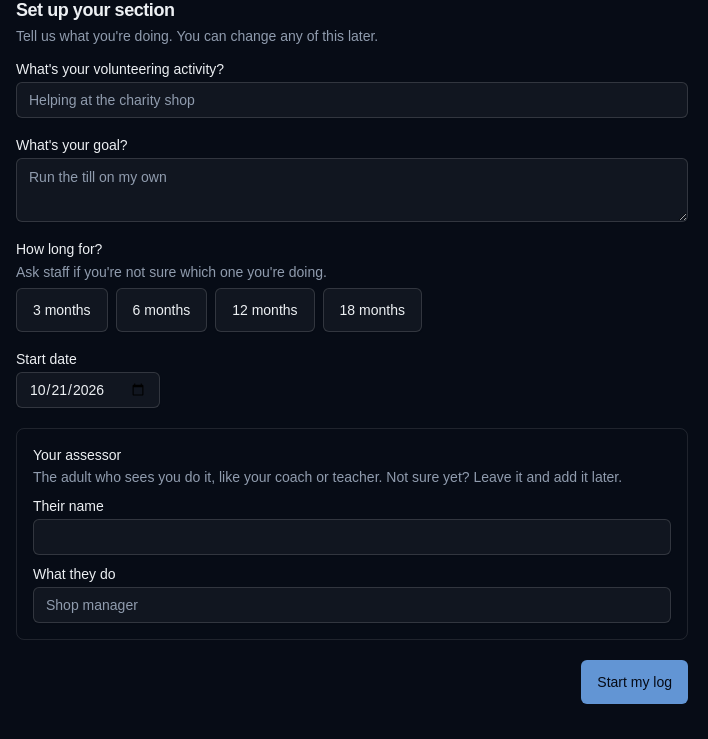
Test: setting a section up › asks what they're doing, and says what's missing before sending anything
(page scrolled)
Click the button "Start my log": (635, 682) [581,660,688,704]
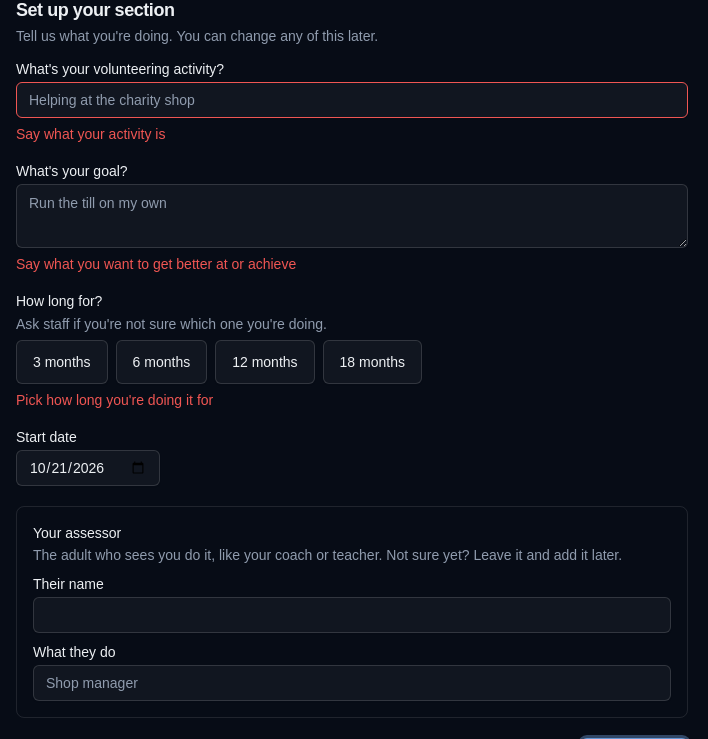
Result: the text "Say what your activity is" is shown at [16,126,165,142]
Result: the text "Say what you want to get better at or achieve" is shown at [16,256,296,272]
Result: the text "Pick how long you're doing it for" is shown at [16,392,213,408]
